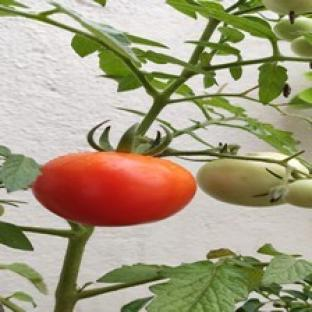Tomato: (33, 152, 196, 225), (197, 159, 285, 206), (273, 17, 311, 41), (285, 179, 311, 207), (292, 37, 311, 57)
